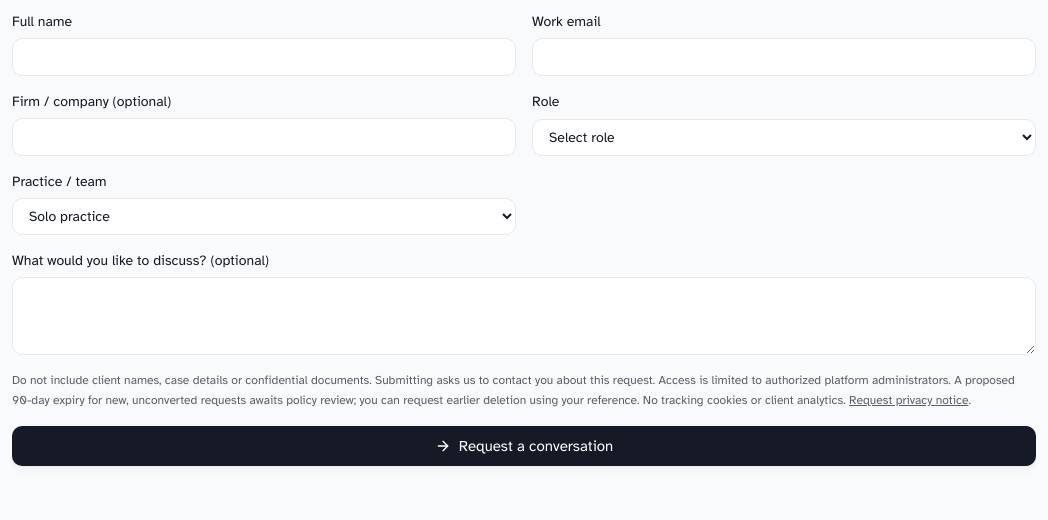
Scenario: seo_demo_20261009 public form › permits correction after explicit validation rejection
Type "Demo Advocate" into the field labelled "Full name".
click(264, 57); type("Demo Advocate")  # box [12,38,516,76]
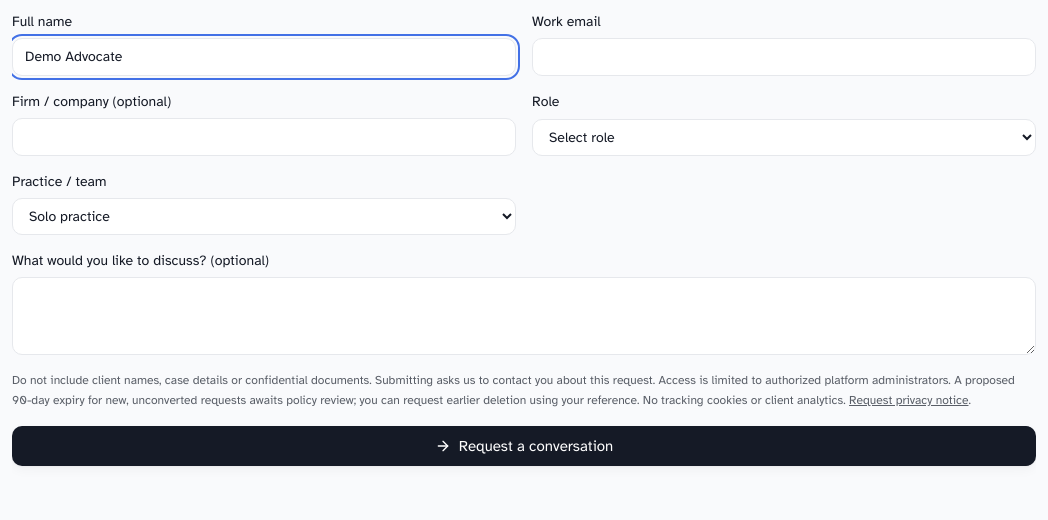
Type "demo@example.com" into the field labelled "Work email".
click(784, 57); type("demo@example.com")  # box [532,38,1036,76]
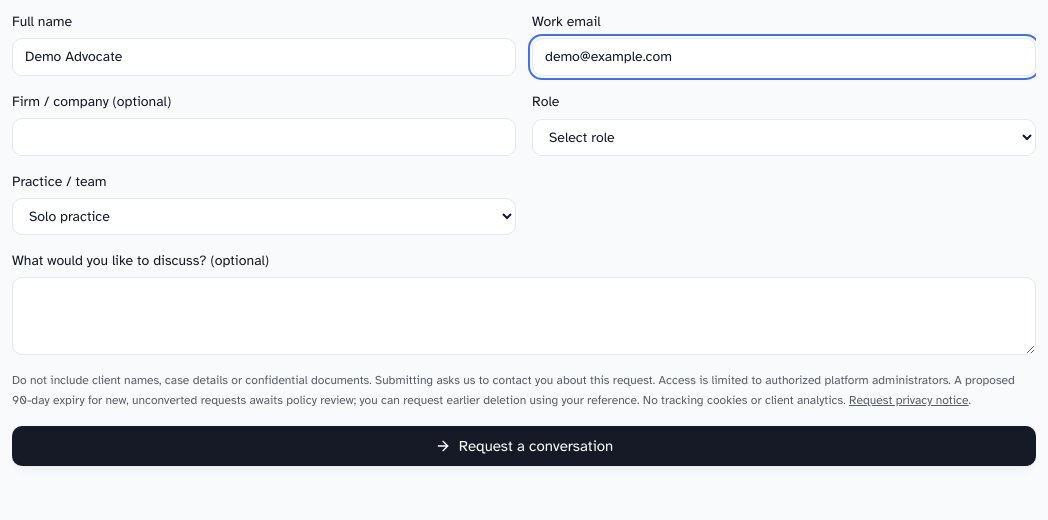
Select "Solo advocate" in the dropdown labelled "Role" at point(784, 137), box [532,118,1036,156]
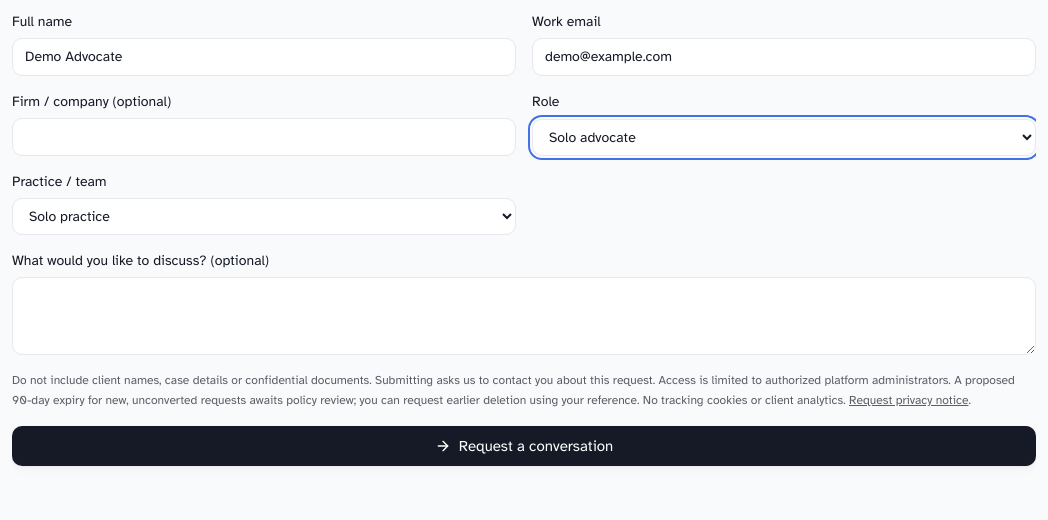
Click the button "Request a conversation".
click(524, 446)  # box [12,426,1036,466]
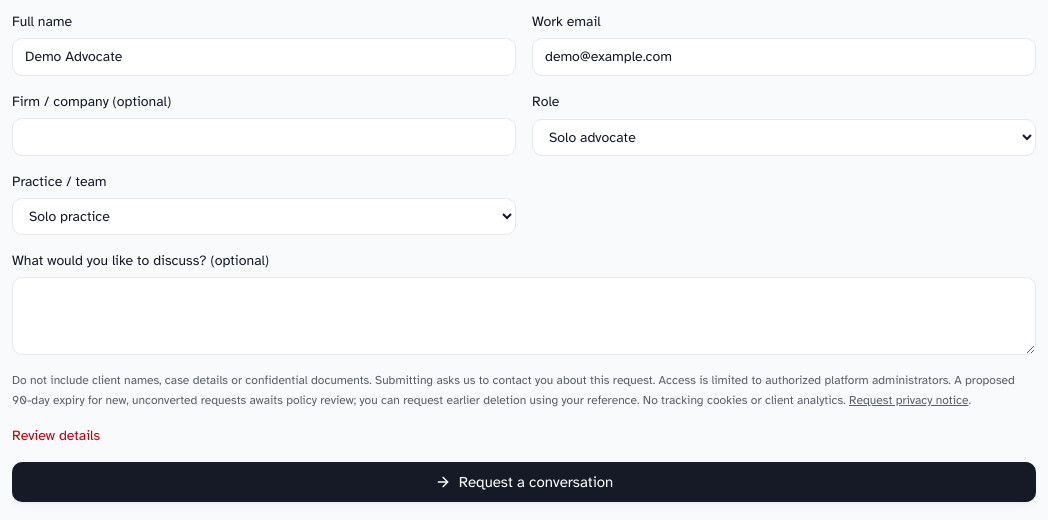
Expected: the field labelled "Full name" is enabled, [12,38,516,76]
Expected: the message "Review details" is shown, [12,427,100,444]
